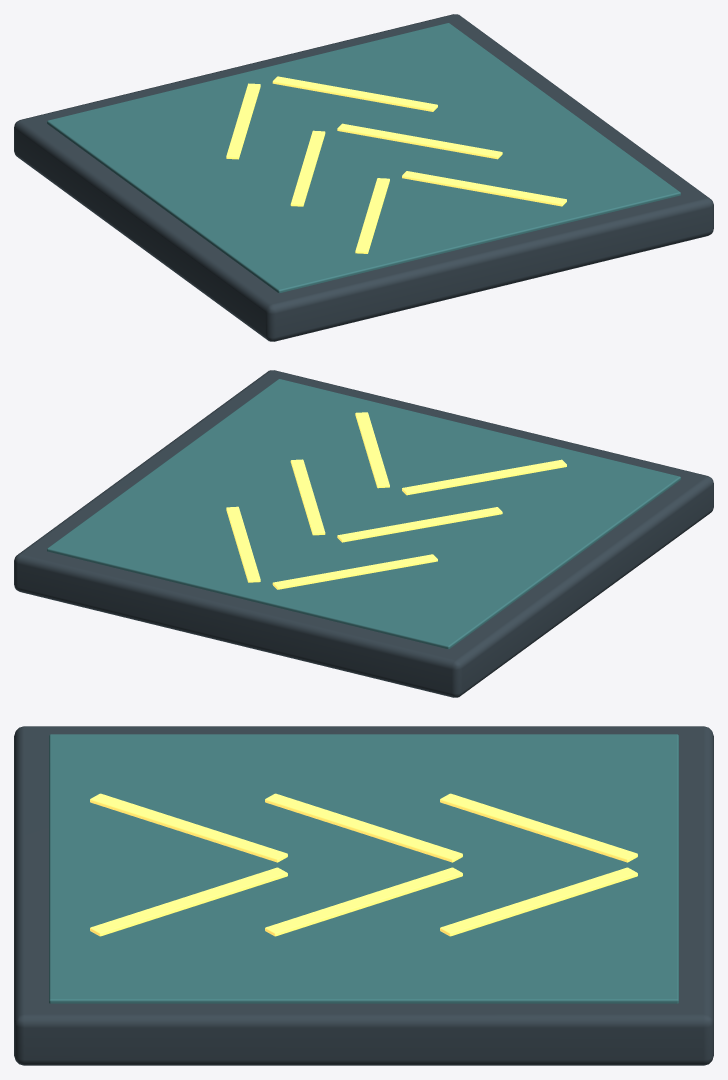
File: pad.glb
3 renders of one model, top to bottom at view 1: azimuth 30°, elevation 25°; view 2: azimuth 150°, elevation 25°; view 3: azimuth 270°, elevation 25°, orthographic. The views are drawn at different scales.
Visible parts, largest first — view 1: pad; view 2: pad; view 3: pad.
Part boxes in pixels (x1=…): pad: x1=14, y1=14, x2=713, y2=341; pad: x1=14, y1=370, x2=713, y2=697; pad: x1=14, y1=726, x2=713, y2=1065.
Size of the model in its own units: 4 by 0.3675 by 4.
